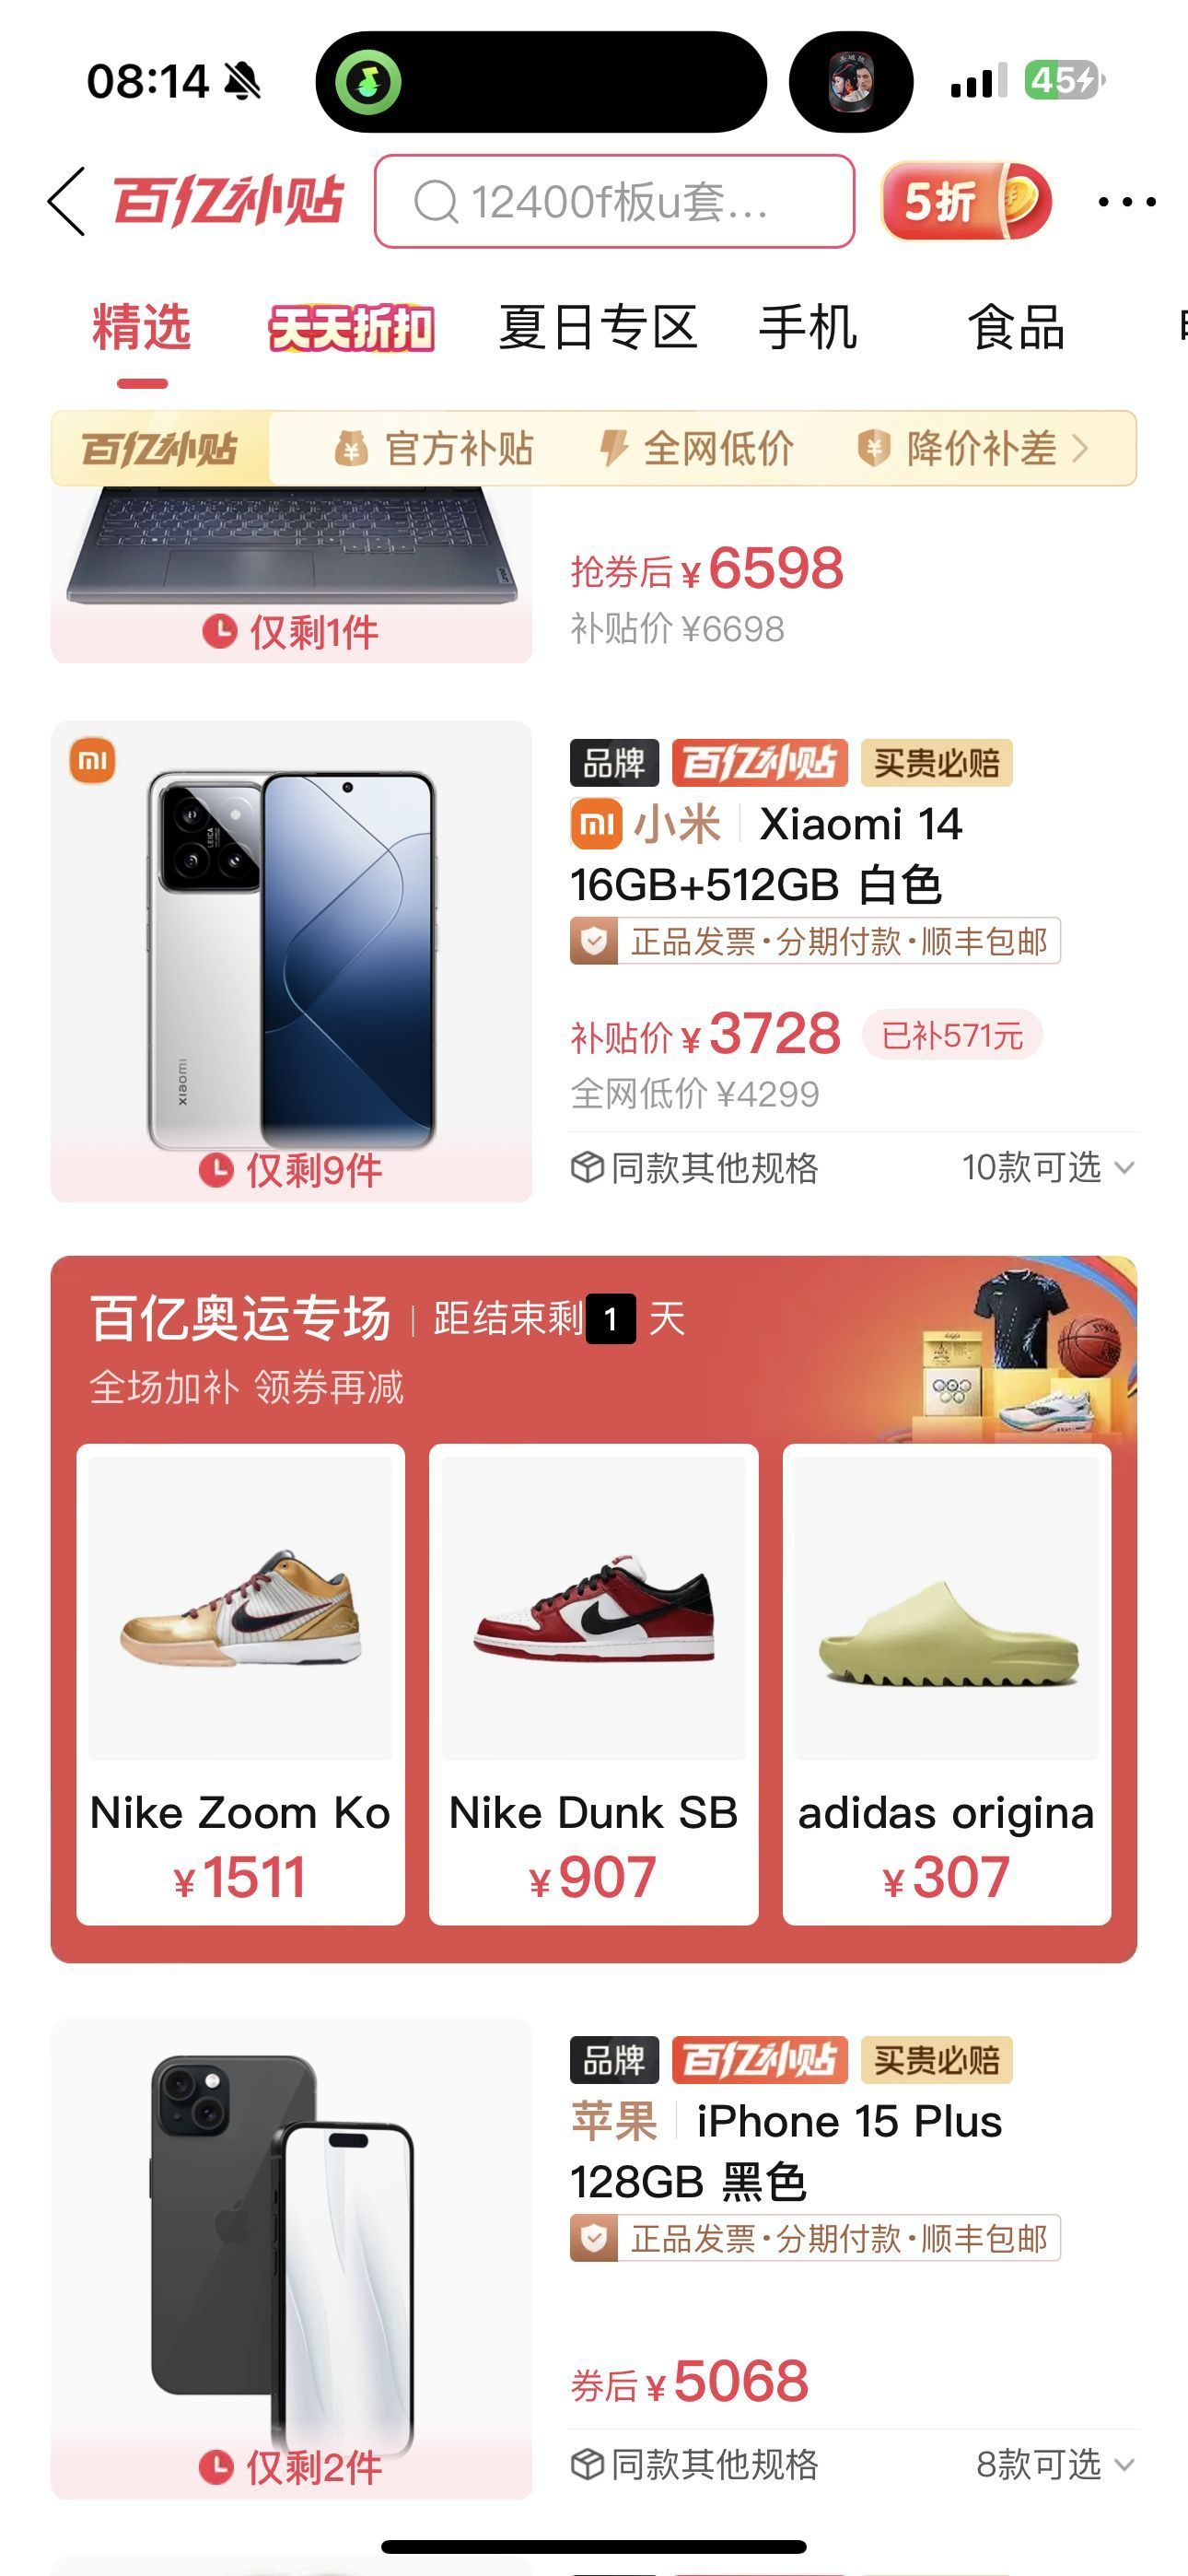banner: (39, 1253, 1142, 1968)
item: (33, 716, 1172, 1222), (49, 2004, 1153, 2520)
op_bar: (18, 143, 1185, 266)
